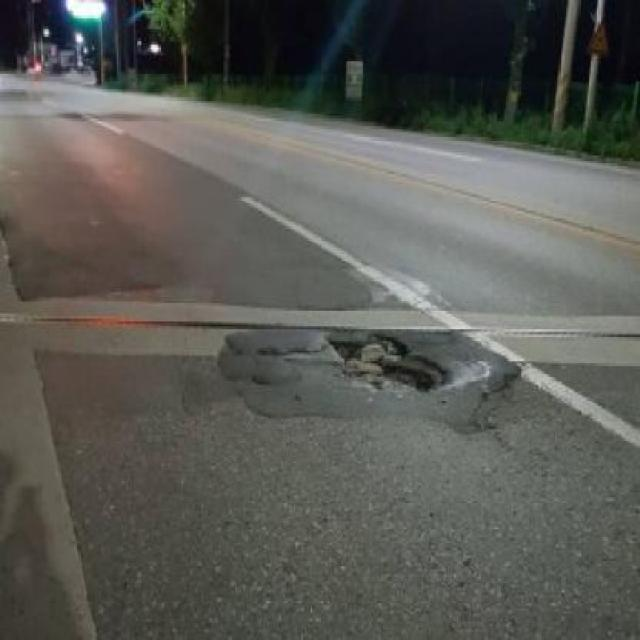Buraco: (251, 329, 456, 396)
